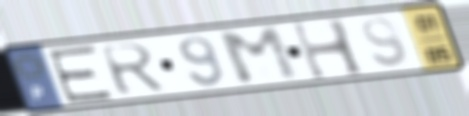9: (358, 16, 412, 70), (176, 35, 227, 89)
E: (44, 43, 117, 105)
H: (288, 17, 370, 83)
M: (214, 24, 305, 88)
R: (96, 41, 169, 98)
